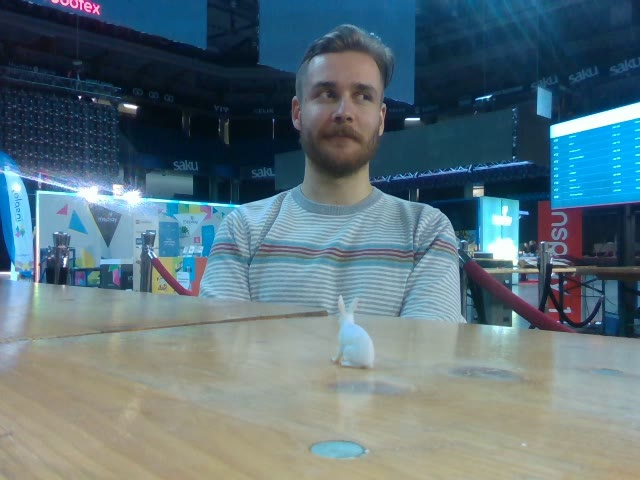toy: (332, 293, 374, 366)
